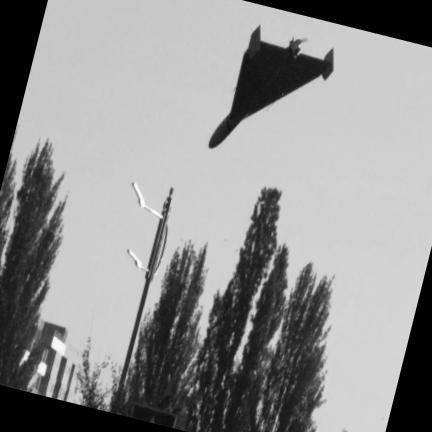Shahed: (208, 26, 332, 148)
